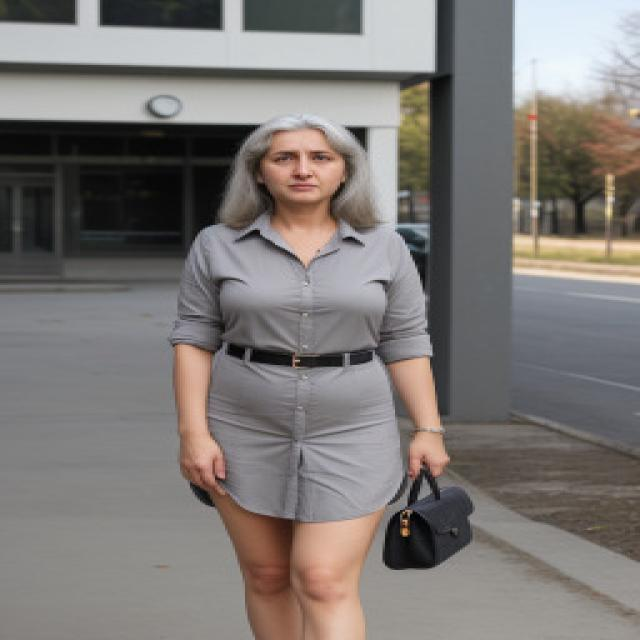Ai human 2: (164, 106, 496, 640)
